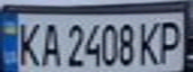0: (100, 20, 121, 68)
2: (63, 19, 84, 69)
4: (81, 19, 103, 69)
8: (118, 19, 139, 67)
A: (36, 19, 63, 67)
K: (12, 18, 42, 68), (136, 17, 163, 66)
P: (154, 17, 187, 65)
